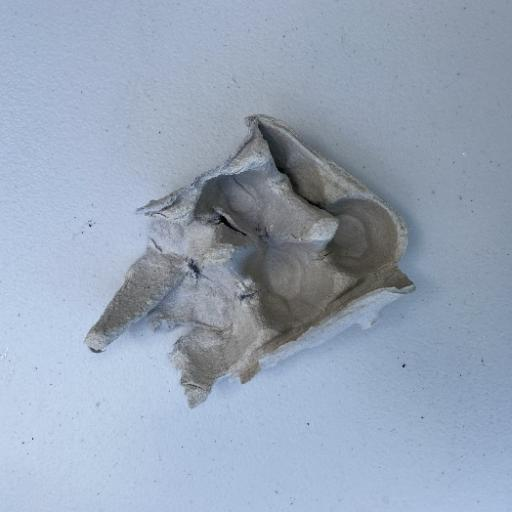Cardboard: (82, 112, 416, 410)
